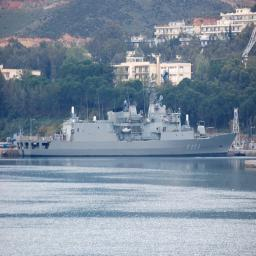Fragata: (15, 69, 240, 161)
